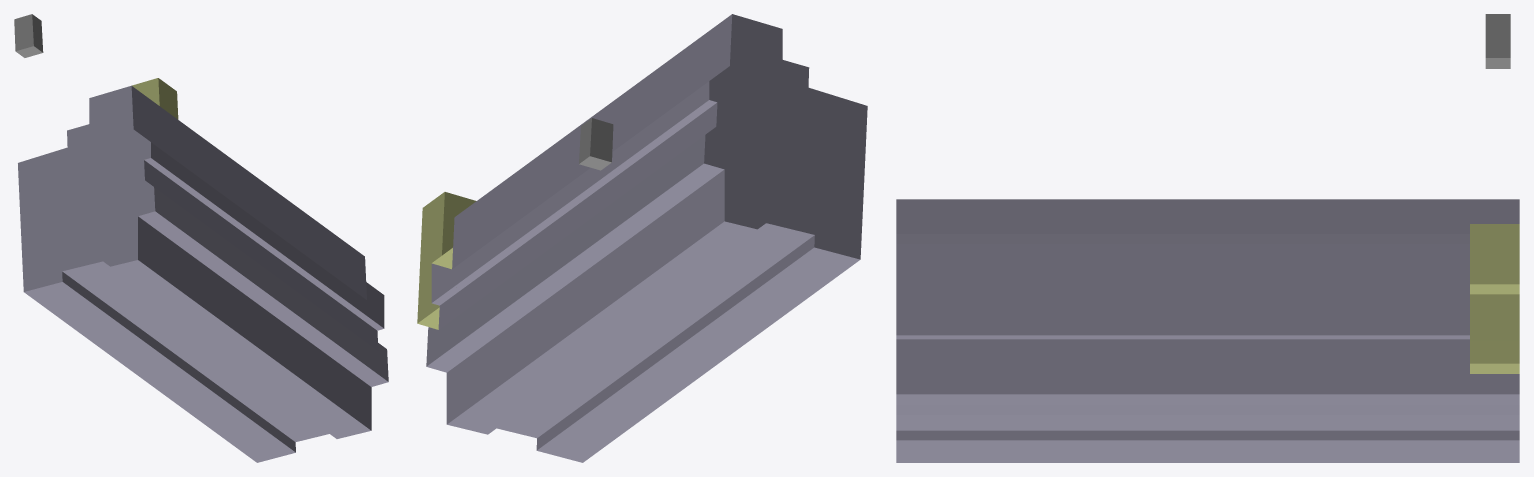
The picture shows the model from 3 angles, left to right: view 1: azimuth 30°, elevation 25°; view 2: azimuth 150°, elevation 25°; view 3: azimuth 270°, elevation 25°; orthographic projection. The views are drawn at different scales.
Visible parts, largest first — view 1: 0_3_1_3_2_3_3_3_3; view 2: 0_3_1_3_2_3_3_3_3; view 3: 0_3_1_3_2_3_3_3_3.
Boxes of the visible parts, left/top/right/bottom form: 0_3_1_3_2_3_3_3_3: left=14, top=14, right=388, bottom=462; 0_3_1_3_2_3_3_3_3: left=417, top=14, right=867, bottom=462; 0_3_1_3_2_3_3_3_3: left=896, top=14, right=1519, bottom=462.
Bounding box in the file's own units: 28.21 × 49.52 × 75.
